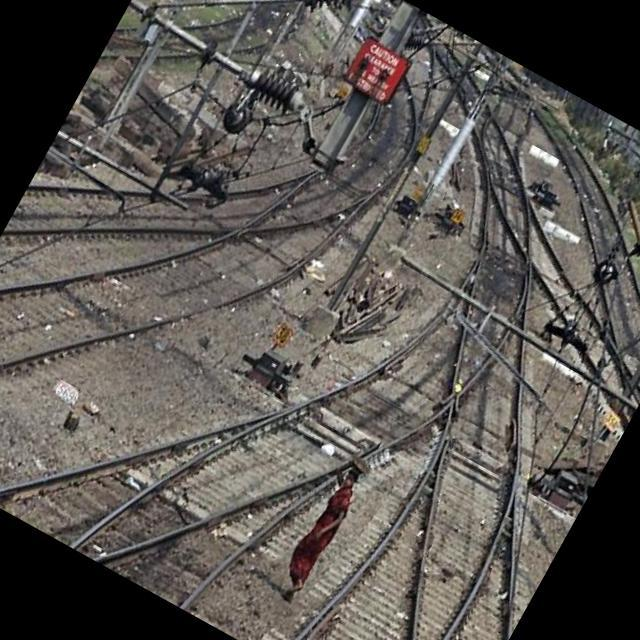person: (232, 400, 414, 638)
